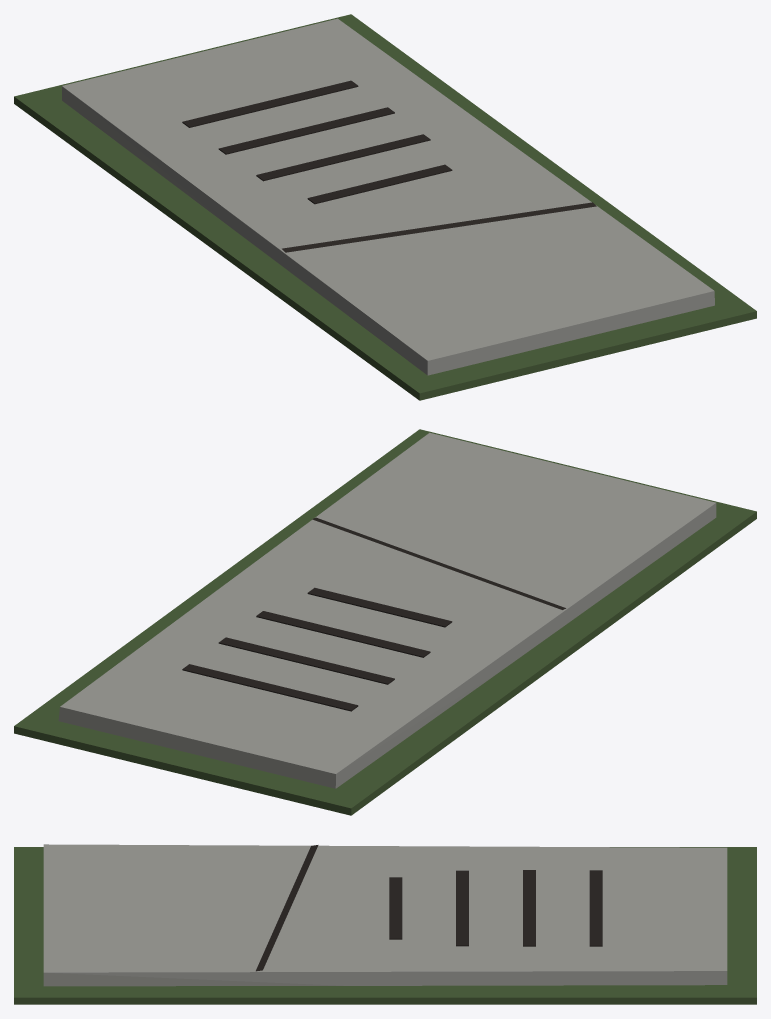
Rendered from LedgerStone.fbx.
The picture shows the model from 3 angles, top to bottom: view 1: azimuth 30°, elevation 25°; view 2: azimuth 150°, elevation 25°; view 3: azimuth 270°, elevation 25°; orthographic projection. The views are drawn at different scales.
Parts seen in each view (by area): view 1: LedgerStone; view 2: LedgerStone; view 3: LedgerStone.
Boxes of the visible parts, x1,y1,x2,y2 form: LedgerStone: (14,14,756,400); LedgerStone: (14,429,756,815); LedgerStone: (14,844,756,1004).
Bounding box in the file's own units: 0.96 × 0.094 × 2.
